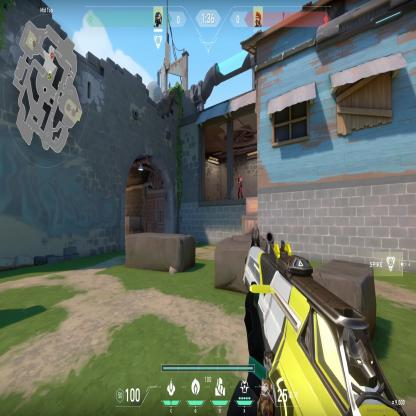enemy: (237, 172, 243, 199)
